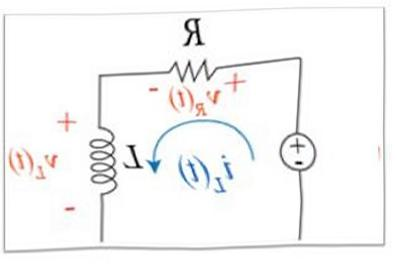Battery: (266, 120, 322, 181)
